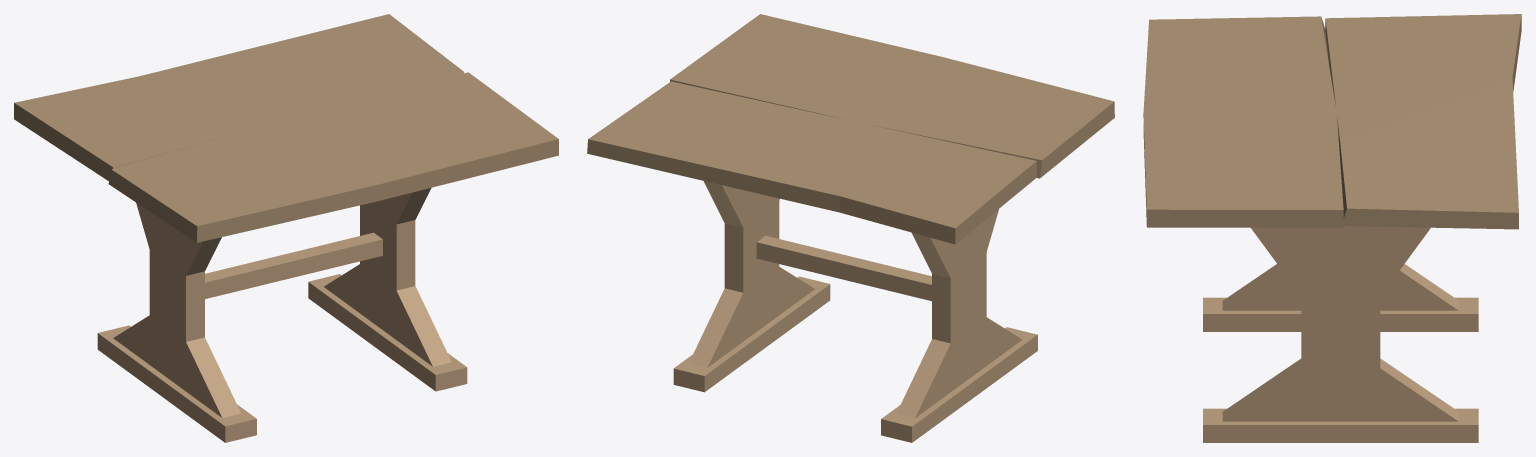
The model's file is roman_table_small.fbx.
3 renders of one model, left to right at view 1: azimuth 30°, elevation 25°; view 2: azimuth 150°, elevation 25°; view 3: azimuth 270°, elevation 25°, orthographic. The views are drawn at different scales.
Parts seen in each view (by area): view 1: Cube.044; view 2: Cube.044; view 3: Cube.044.
Part boxes in pixels (x1=…): Cube.044: x1=14, y1=14, x2=558, y2=442; Cube.044: x1=587, y1=14, x2=1114, y2=442; Cube.044: x1=1143, y1=14, x2=1521, y2=442.
Size of the model in its own units: 1.42 by 0.9 by 1.15.
